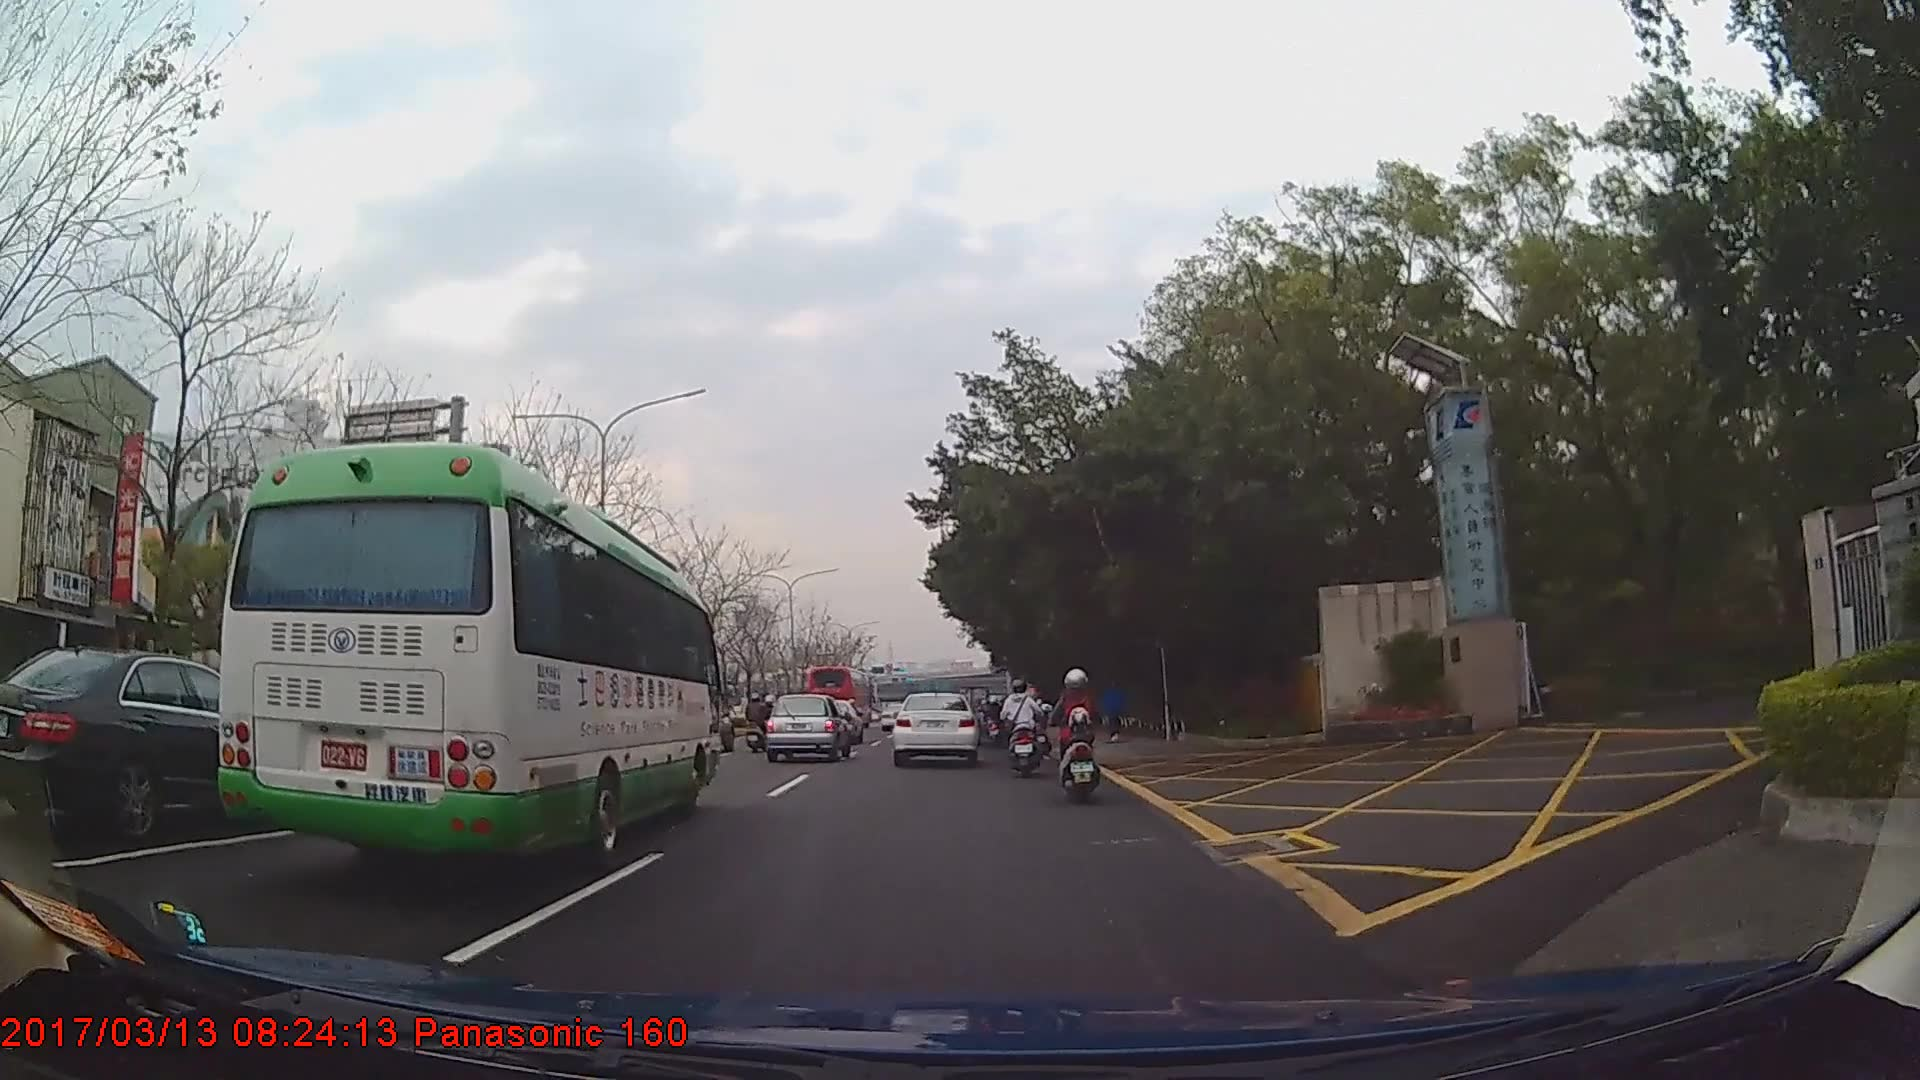pedestrian: (1099, 675, 1125, 740)
rider: (1052, 664, 1101, 804), (998, 680, 1043, 778), (746, 689, 772, 744), (1026, 696, 1048, 756)
vehicle: (215, 438, 719, 865), (0, 644, 325, 843), (888, 687, 978, 764), (762, 688, 852, 759), (803, 660, 871, 726)
